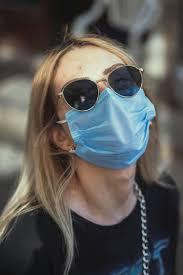mask: (61, 83, 162, 180)
sunglasses: (59, 58, 154, 108)
